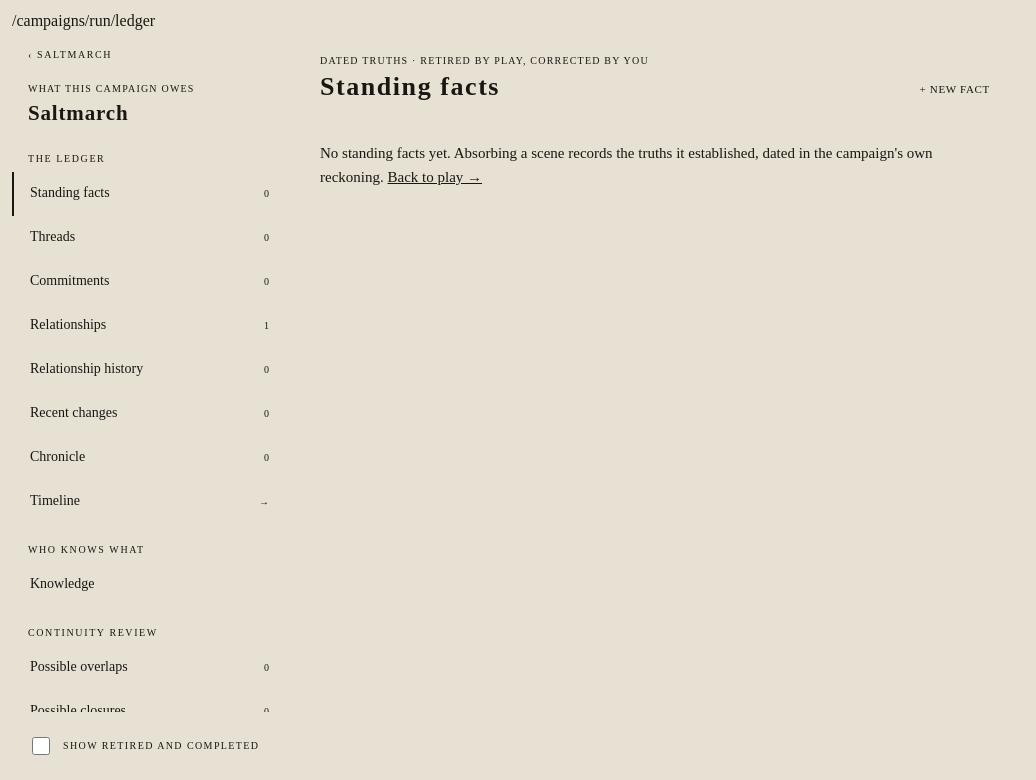
Test: a narrowed timeline with nothing in it says so rather than sending you to play
Click the button "Relationship history 0". click: (87, 369)
box: [12,348,286,392]
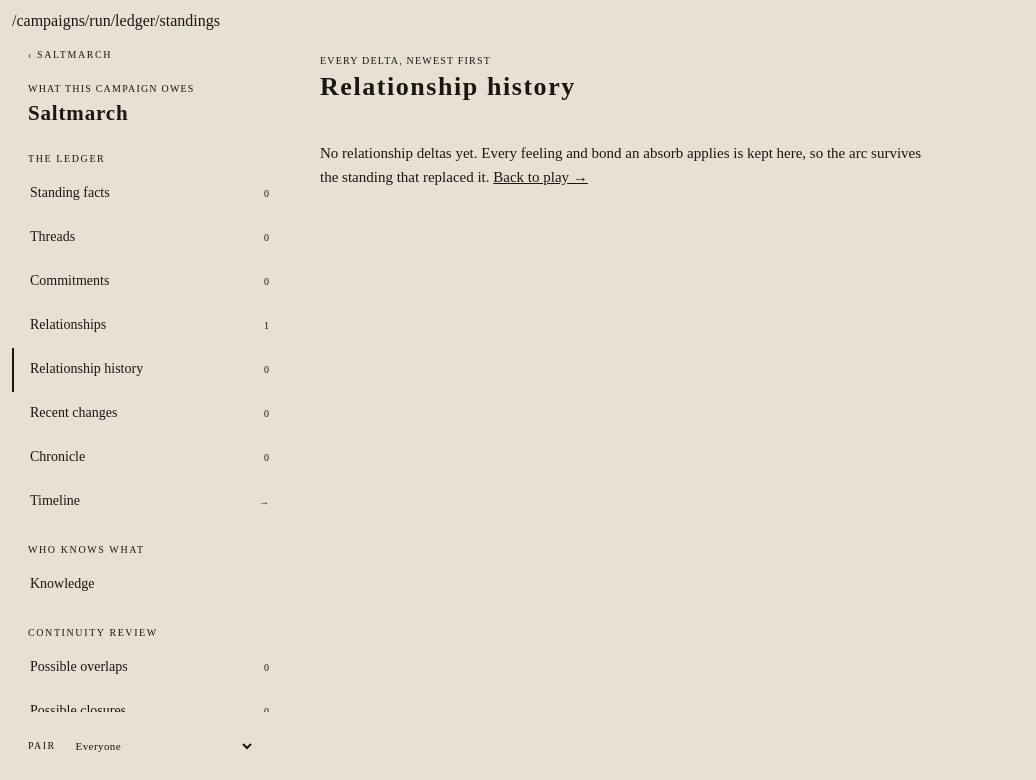
Select "Sister Mara → The Reeve" in the dropdown named "narrow the timeline". click: (160, 746)
box: [66,735,256,757]
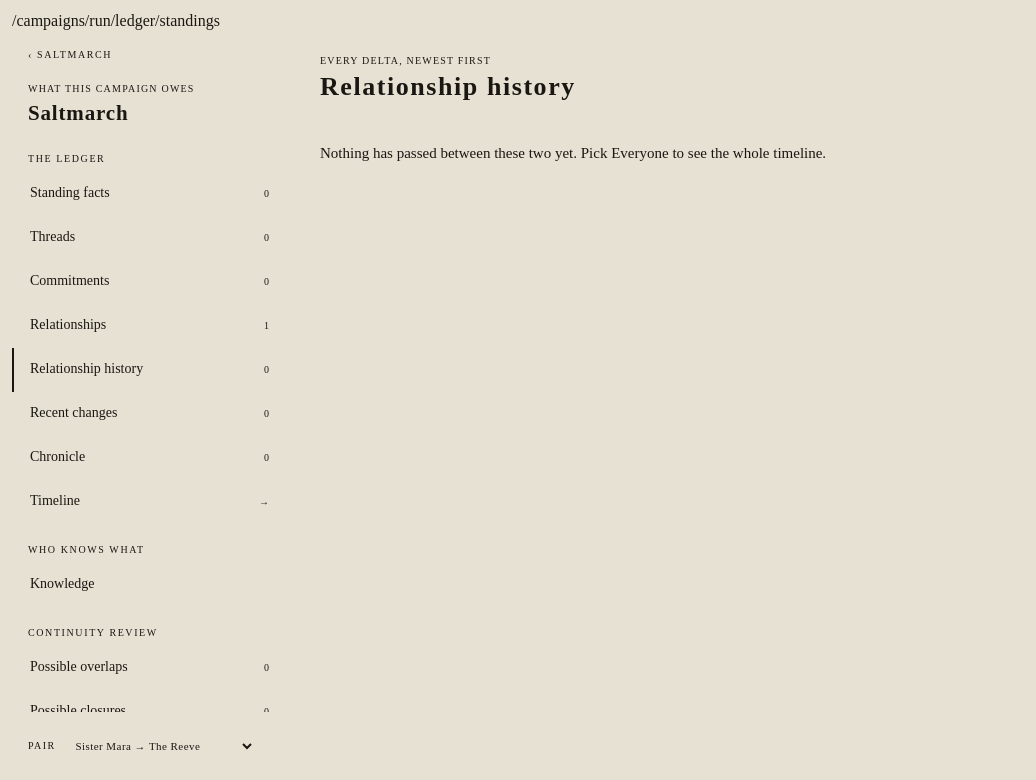
Check: the text "Nothing has passed between these two yet" is shown, box [320,145,826,161]
Check: the link "Back to play" is gone
